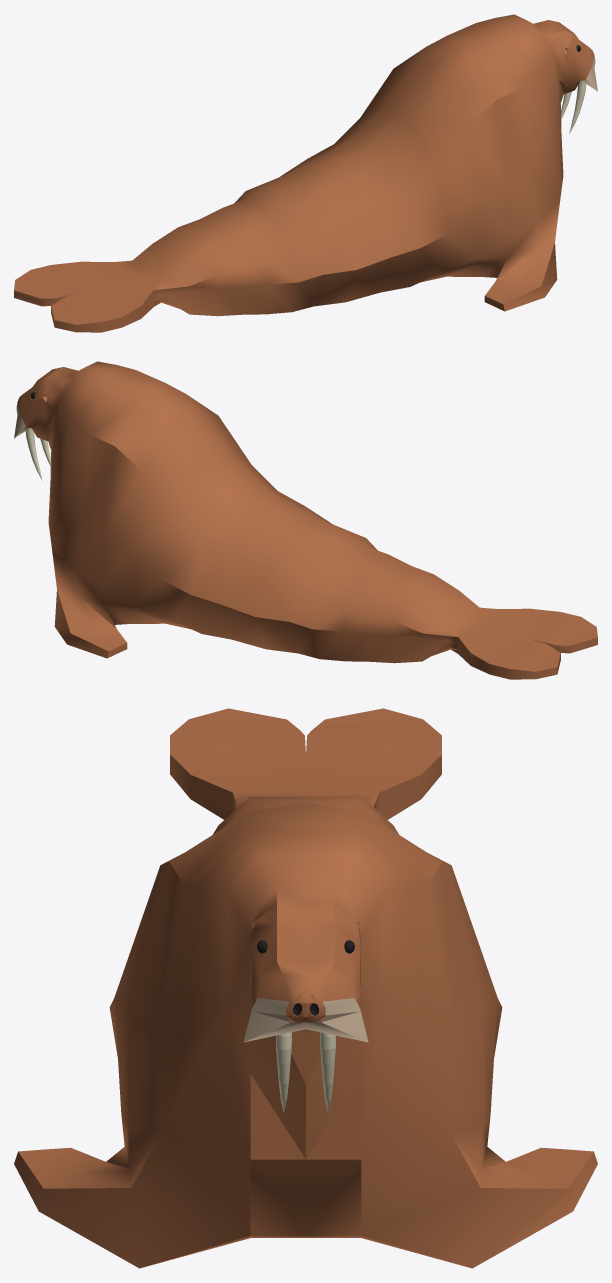
File: walrus.gltf
3 renders of one model, top to bottom at view 1: azimuth 30°, elevation 25°; view 2: azimuth 150°, elevation 25°; view 3: azimuth 270°, elevation 25°, orthographic. The views are drawn at different scales.
Visible parts, largest first — view 1: Plane; view 2: Plane; view 3: Plane, Cylinder, Cylinder.001.
Boxes of the visible parts, bbox=[...] form: Plane: bbox=[14, 14, 597, 332]; Plane: bbox=[14, 361, 597, 679]; Plane: bbox=[14, 708, 597, 1268]; Cylinder: bbox=[320, 1032, 335, 1113]; Cylinder.001: bbox=[276, 1032, 291, 1113].
Size of the model in its own units: 11.12 by 4.28 by 5.28.
